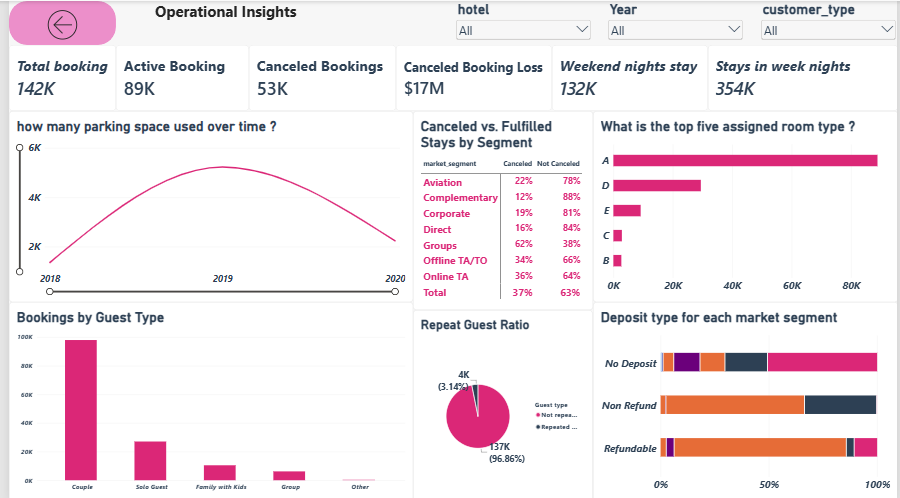

Layout of this report page (visuals, bound fields, positions):
{"tool":"powerbi","page":{"name":"Operational Insights","canvas":[1920,1080],"ordinal":1},"visuals":[{"type":"cardVisual","fields":{"Data":["Hotel_revenue_historical.Total booking"]},"box":[0,95,231.1,142.6],"z":0},{"type":"cardVisual","fields":{"Data":["Sum(Hotel_revenue_historical.stays_in_weekend_nights)"]},"box":[1172.9,95,337,142.6],"z":1000},{"type":"textbox","box":[315.4,0,557.3,75.6],"z":2000},{"type":"cardVisual","fields":{"Data":["Sum(Hotel_revenue_historical.stays_in_week_nights)"]},"box":[1509.8,95,410.4,142.6],"z":3000},{"type":"barChart","title":"What is the top five assigned room type ?","fields":{"Y":["Hotel_revenue_historical.Total booking"],"Category":["Hotel_revenue_historical.assigned_room_type"]},"box":[1261.4,237.6,658.8,412.6],"z":4000},{"type":"lineChart","title":"how many parking space used over time ?","fields":{"Category":["Hotel_revenue_historical.arrival_date_year Hierarchy.arrival_date_year","Hotel_revenue_historical.arrival_date_year Hierarchy.arrival_date_month","Hotel_revenue_historical.arrival_date_year Hierarchy.arrival_date_week_number","Hotel_revenue_historical.arrival_date_year Hierarchy.arrival_date_day_of_month"],"Y":["Sum(Hotel_revenue_historical.required_car_parking_spaces)"]},"box":[0,236.8,872.9,413.3],"z":5000},{"type":"pieChart","title":"Repeat Guest Ratio","fields":{"Category":["Hotel_revenue_historical.Repeated guest"],"Y":["Hotel_revenue_historical.Total booking"]},"box":[872.6,667.4,387.7,413.3],"z":6000},{"type":"hundredPercentStackedBarChart","title":"Deposit type for each market segment","fields":{"Category":["Hotel_revenue_historical.deposit_type"],"Y":["Hotel_revenue_historical.Total booking"],"Series":["Hotel_revenue_historical.market_segment"]},"box":[1261.4,650.2,658.8,429.8],"z":7000},{"type":"slicer","fields":{"Values":["Hotel_revenue_historical.hotel"]},"box":[961.2,0,300.2,95],"z":8000},{"type":"slicer","fields":{"Values":["Hotel_revenue_historical.arrival_date_year"]},"box":[1289.5,0,300.2,95],"z":9000},{"type":"slicer","fields":{"Values":["Hotel_revenue_historical.customer_type"]},"box":[1620,0,300.2,95],"z":10000},{"type":"cardVisual","fields":{"Data":["Hotel_revenue_historical.Actual Non-Canceled Bookings"]},"box":[231.1,95,287.3,142.6],"z":11000},{"type":"actionButton","box":[0,0,231.1,95],"z":12000},{"type":"cardVisual","fields":{"Data":["Hotel_revenue_historical.Actual Canceled Bookings"]},"box":[518.4,95,317.5,142.6],"z":13000},{"type":"columnChart","title":"Bookings by Guest Type","fields":{"Y":["Hotel_revenue_historical.Total booking"],"Category":["Hotel_revenue_historical.Guest type"]},"box":[0,650,873,430],"z":14000},{"type":"pivotTable","title":"Canceled vs. Fulfilled Stays by Segment","fields":{"Rows":["Hotel_revenue_historical.market_segment"],"Values":["Hotel_revenue_historical.Total booking"],"Columns":["Hotel_revenue_historical.Booking States"]},"box":[872.6,237.6,388.8,429.8],"z":15000},{"type":"cardVisual","fields":{"Data":["Sum(Hotel_revenue_historical.Canceled_Revenue)"]},"box":[835.9,95,337,142.6],"z":16000}]}

Visuals, with their boxes in screenshot pixels (x1, y1, x2, y2), scaled from the page's 1920x1080 canvas onto the 900x498 screenshot:
cardVisual - Hotel_revenue_historical.Total booking: box(0, 44, 108, 110)
cardVisual - Sum(Hotel_revenue_historical.stays_in_weekend_nights): box(550, 44, 708, 110)
textbox: box(148, 0, 409, 35)
cardVisual - Sum(Hotel_revenue_historical.stays_in_week_nights): box(708, 44, 899, 110)
"What is the top five assigned room type ?" barChart: box(591, 110, 899, 300)
"how many parking space used over time ?" lineChart: box(0, 109, 409, 300)
"Repeat Guest Ratio" pieChart: box(409, 308, 591, 497)
"Deposit type for each market segment" hundredPercentStackedBarChart: box(591, 300, 899, 497)
slicer - Hotel_revenue_historical.hotel: box(451, 0, 591, 44)
slicer - Hotel_revenue_historical.arrival_date_year: box(604, 0, 745, 44)
slicer - Hotel_revenue_historical.customer_type: box(759, 0, 899, 44)
cardVisual - Hotel_revenue_historical.Actual Non-Canceled Bookings: box(108, 44, 243, 110)
actionButton: box(0, 0, 108, 44)
cardVisual - Hotel_revenue_historical.Actual Canceled Bookings: box(243, 44, 392, 110)
"Bookings by Guest Type" columnChart: box(0, 300, 409, 497)
"Canceled vs. Fulfilled Stays by Segment" pivotTable: box(409, 110, 591, 308)
cardVisual - Sum(Hotel_revenue_historical.Canceled_Revenue): box(392, 44, 550, 110)
